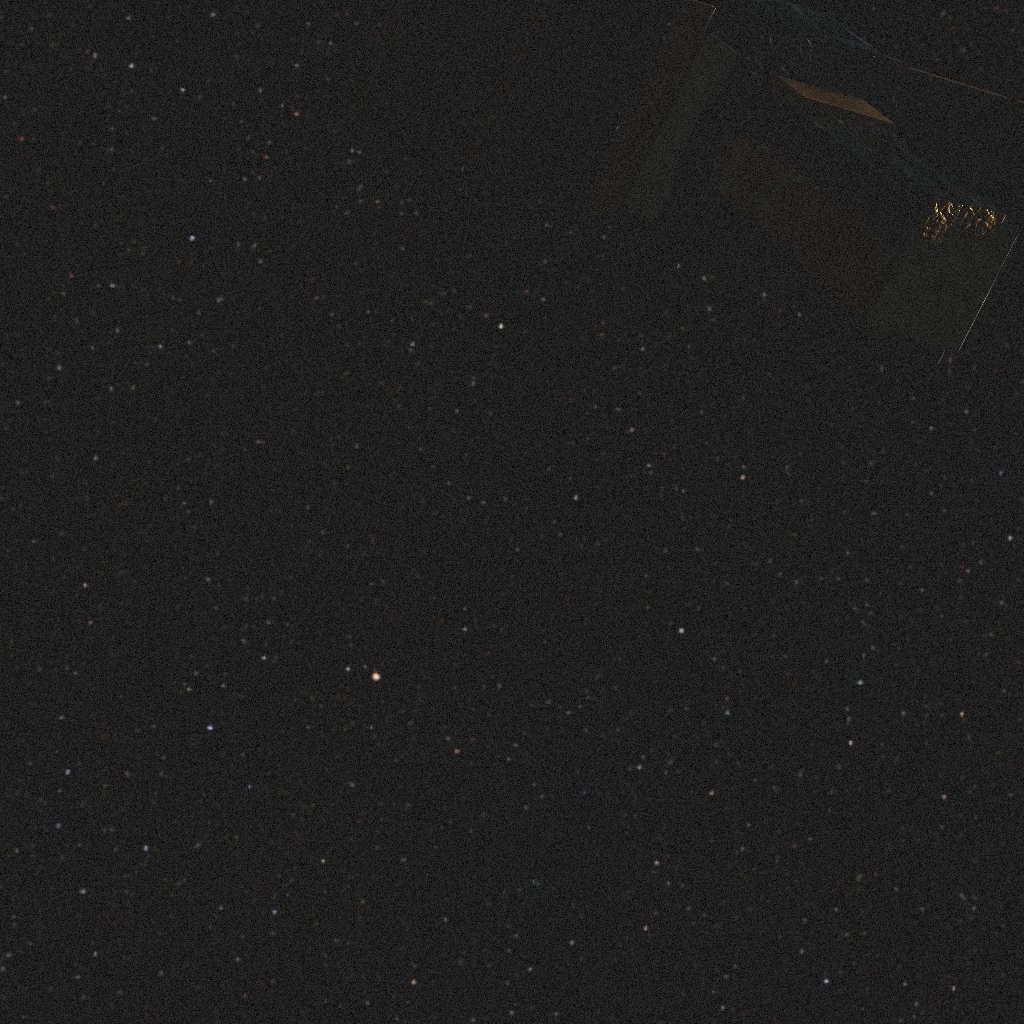soho: (341, 0, 1024, 371)
